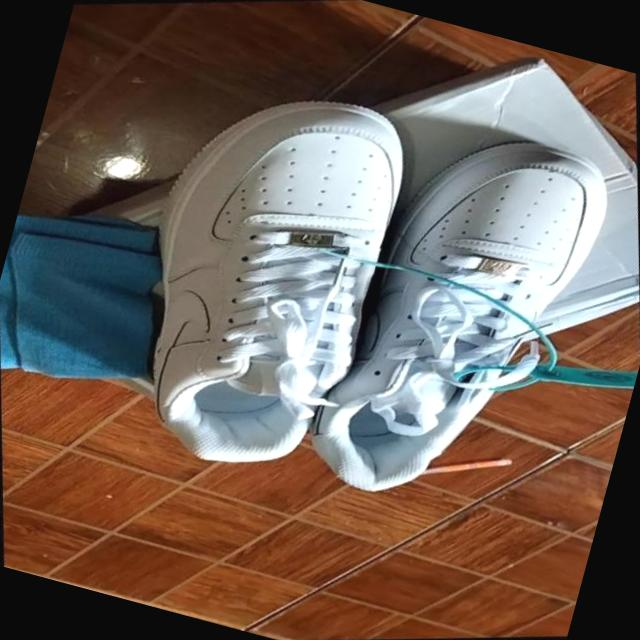nike_fake_airforce: (18, 26, 500, 539), (220, 65, 640, 568)
